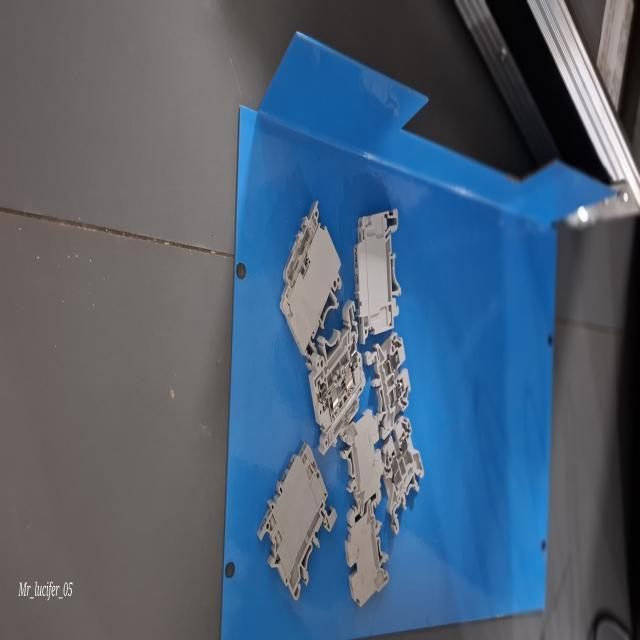Inverted: (343, 494, 391, 612), (340, 406, 384, 524)
Pass: (372, 327, 416, 434)
Reject: (377, 415, 425, 541)
